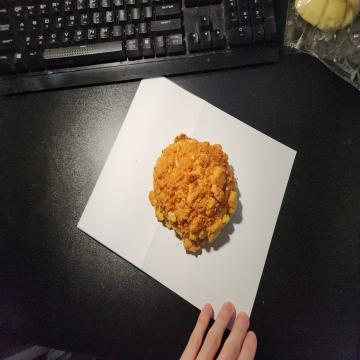soboru_bread: (148, 134, 238, 260)
